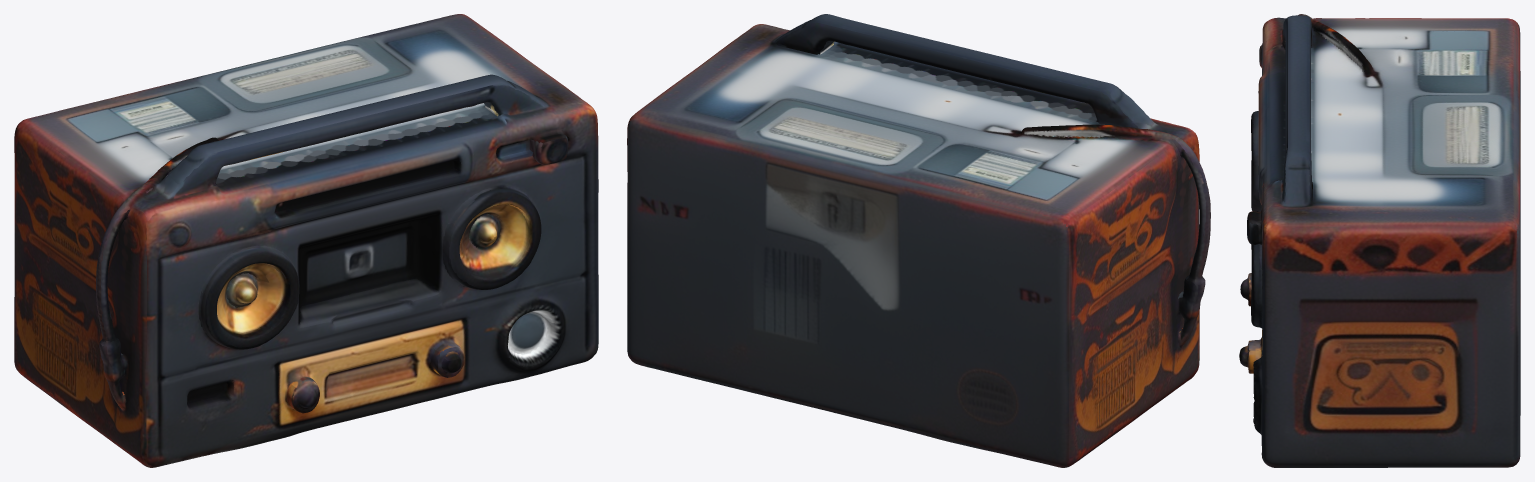
The model's file is grabadora_vieja.glb.
3 views of the same model, side by side, from view 1: azimuth 30°, elevation 25°; view 2: azimuth 150°, elevation 25°; view 3: azimuth 270°, elevation 25° (orthographic). The views are drawn at different scales.
Parts seen in each view (by area): view 1: tmp4fnrm65t.ply; view 2: tmp4fnrm65t.ply; view 3: tmp4fnrm65t.ply.
Part boxes in pixels (left/top/right/bottom): tmp4fnrm65t.ply: left=14, top=14, right=598, bottom=467; tmp4fnrm65t.ply: left=627, top=14, right=1210, bottom=467; tmp4fnrm65t.ply: left=1239, top=14, right=1520, bottom=467.
Bounding box in the file's own units: 0.9912 × 0.5814 × 0.5211.
1 material, 1 textured.
